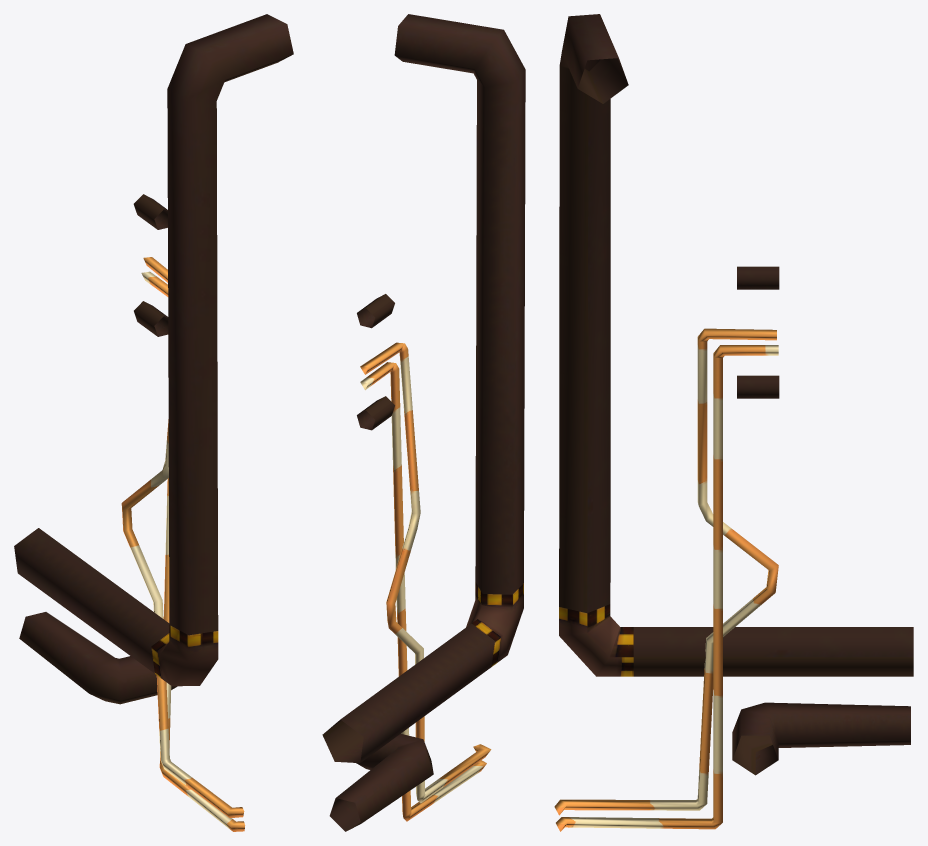
Rendered from sundries_14_b1de694a__ZombiesII_depot_diffuse_03_573b45f4_c1f257.obj.
3 views of the same model, side by side, from view 1: azimuth 30°, elevation 25°; view 2: azimuth 150°, elevation 25°; view 3: azimuth 270°, elevation 25° (orthographic). The views are drawn at different scales.
Size of the model in its own units: 2.29 by 14.56 by 5.93.
Materials: 1 (1 with a texture image).
